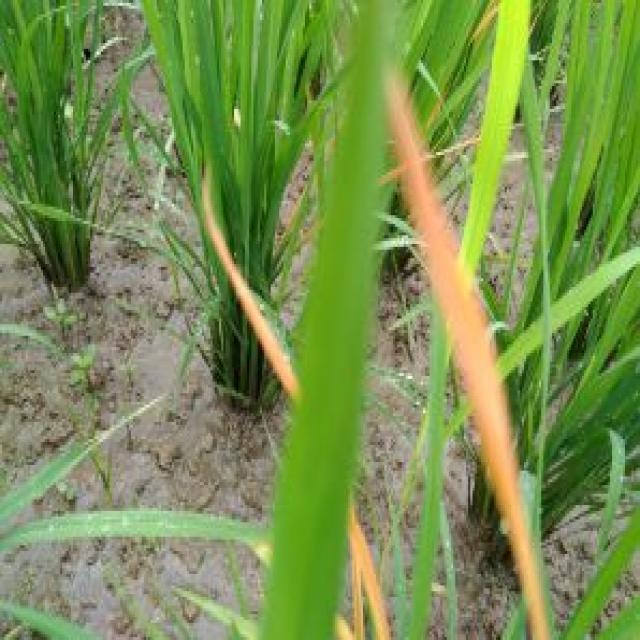Rice Tungro: (429, 101, 546, 630)
